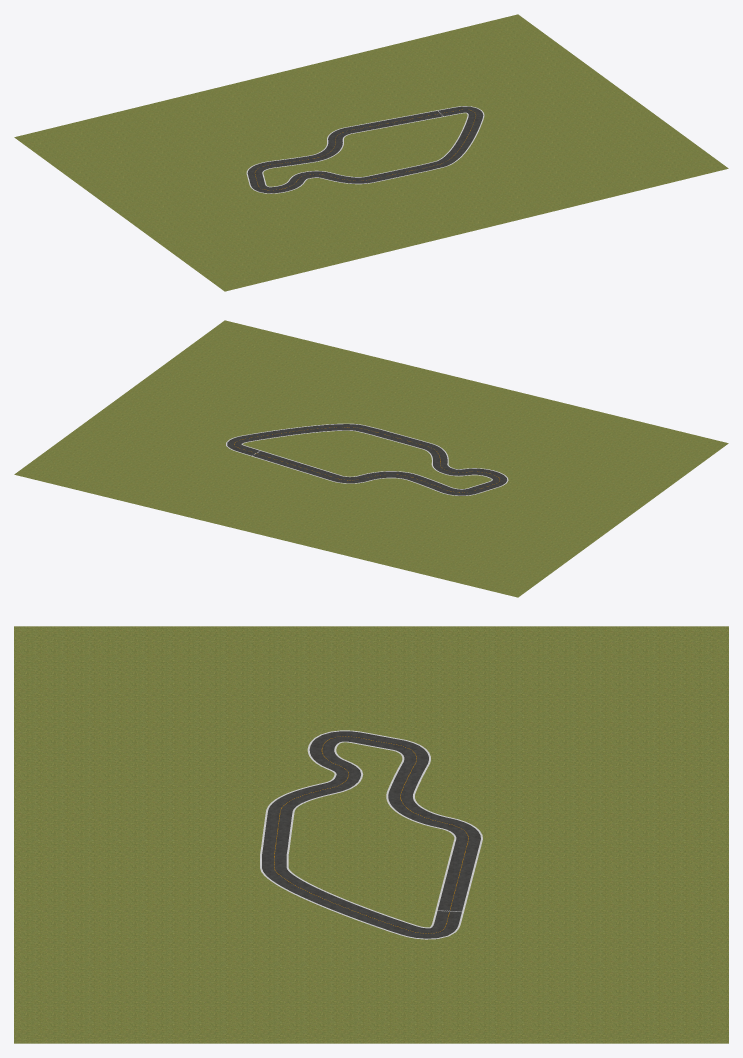
The model's file is arctic_open.dae.
3 renders of one model, top to bottom at view 1: azimuth 30°, elevation 25°; view 2: azimuth 150°, elevation 25°; view 3: azimuth 270°, elevation 25°, orthographic. The views are drawn at different scales.
Visible parts, largest first — view 1: field, road, il, ol; view 2: field, road, il, ol; view 3: field, road, il, ol.
Boxes of the visible parts, x1=… form: field: x1=14, y1=14, x2=728, y2=291; road: x1=247, y1=106, x2=483, y2=193; il: x1=246, y1=106, x2=484, y2=193; ol: x1=262, y1=112, x2=468, y2=187; field: x1=14, y1=320, x2=728, y2=597; road: x1=227, y1=424, x2=507, y2=495; il: x1=226, y1=423, x2=508, y2=495; ol: x1=241, y1=430, x2=492, y2=489; field: x1=14, y1=626, x2=728, y2=1043; road: x1=262, y1=731, x2=480, y2=938; il: x1=260, y1=730, x2=482, y2=939; ol: x1=286, y1=741, x2=456, y2=928.
Size of the model in its own units: 36.69 by 26.58 by 0.0025.
Materials: 6 (6 with a texture image).
